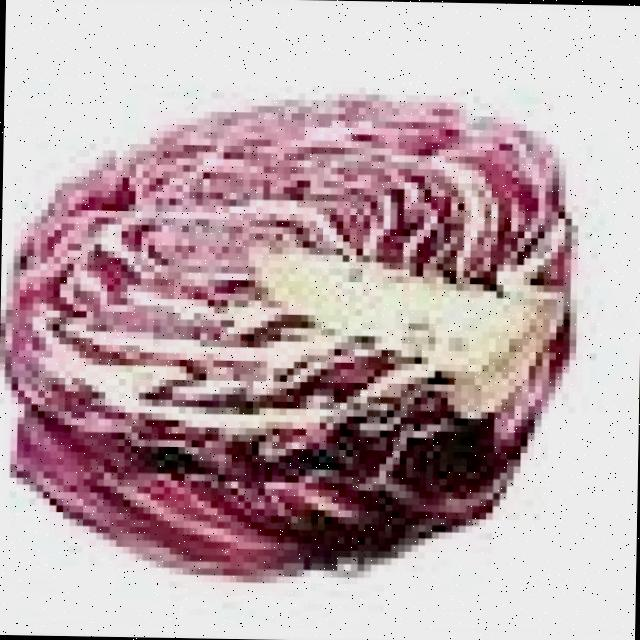cabbage: (0, 80, 581, 585)
